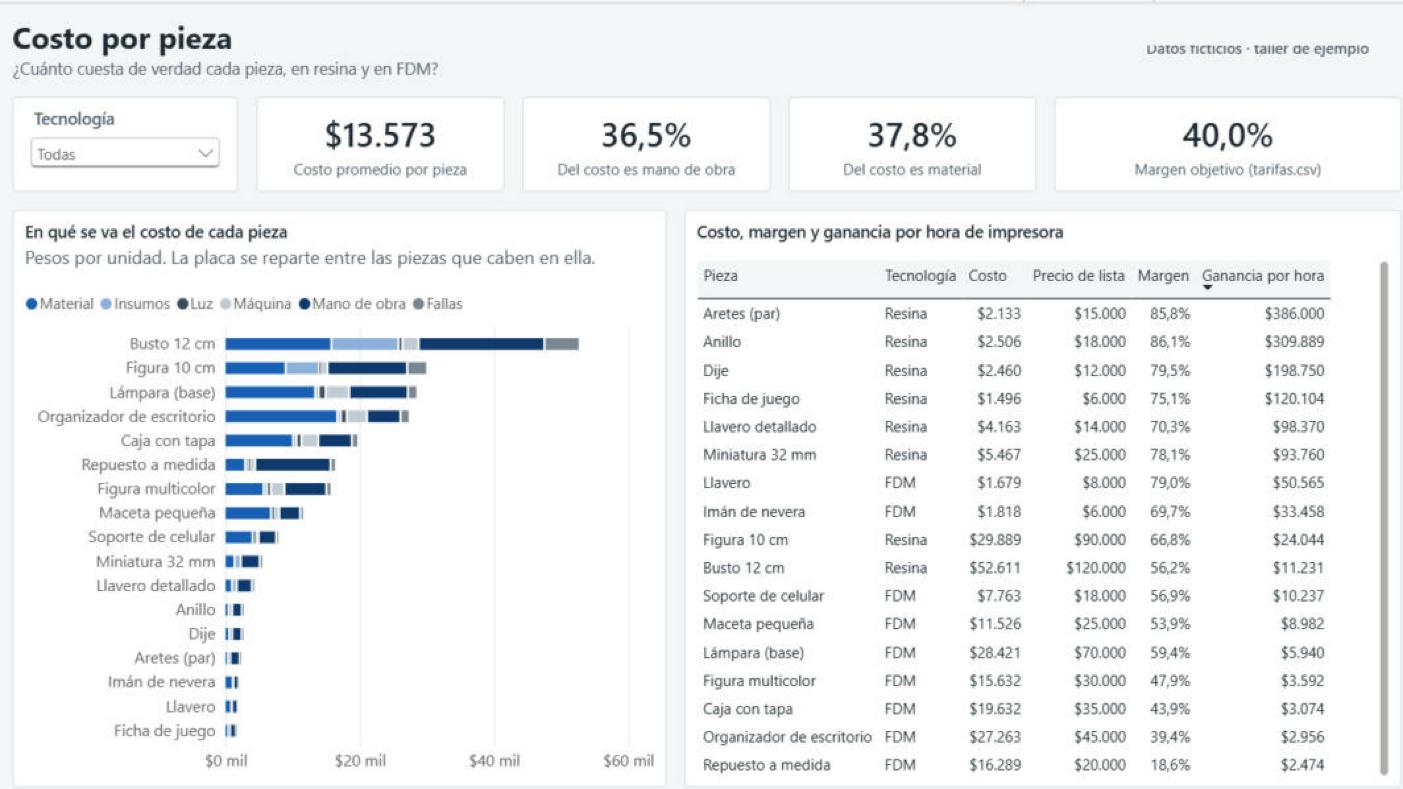

The dashboard page shown, as its layout file describes it:
{"tool":"powerbi","page":{"name":"Costo por pieza","canvas":[1280,720],"ordinal":0},"visuals":[{"type":"textbox","box":[24,12,900,64],"z":0},{"type":"card","fields":{"Values":["Medidas.Origen de los datos"]},"box":[1000,12,256,56],"z":1000},{"type":"slicer","fields":{"Values":["Piezas.tecnologia"]},"box":[24,84,200,84],"z":2000},{"type":"card","fields":{"Values":["Medidas.Costo promedio"]},"box":[240,84,220,84],"z":3000},{"type":"card","fields":{"Values":["Medidas.% mano de obra"]},"box":[476,84,220,84],"z":4000},{"type":"card","fields":{"Values":["Medidas.% material"]},"box":[712,84,220,84],"z":5000},{"type":"card","fields":{"Values":["Medidas.Margen objetivo"]},"box":[948,84,308,84],"z":6000},{"type":"barChart","title":"En qué se va el costo de cada pieza","fields":{"Category":["Piezas.nombre"],"Y":["Medidas.Material","Medidas.Insumos","Medidas.Luz","Medidas.Máquina","Medidas.Mano de obra","Medidas.Fallas"]},"box":[24,184,580,512],"z":7000},{"type":"tableEx","title":"Costo, margen y ganancia por hora de impresora","fields":{"Values":["Piezas.nombre","Piezas.tecnologia","Medidas.Costo por unidad","Medidas.Precio de lista","Medidas.Margen a precio de lista","Medidas.Ganancia por hora de impresora"]},"box":[620,184,636,512],"z":8000}]}

Visuals, with their boxes in screenshot pixels (x1, y1, x2, y2), scaled from the page's 1280x720 canvas onto the 1403x789 screenshot:
textbox: l=26, t=13, r=1013, b=83
card - Medidas.Origen de los datos: l=1096, t=13, r=1377, b=75
slicer - Piezas.tecnologia: l=26, t=92, r=246, b=184
card - Medidas.Costo promedio: l=263, t=92, r=504, b=184
card - Medidas.% mano de obra: l=522, t=92, r=763, b=184
card - Medidas.% material: l=780, t=92, r=1022, b=184
card - Medidas.Margen objetivo: l=1039, t=92, r=1377, b=184
"En qué se va el costo de cada pieza" barChart: l=26, t=202, r=662, b=763
"Costo, margen y ganancia por hora de impresora" tableEx: l=680, t=202, r=1377, b=763
